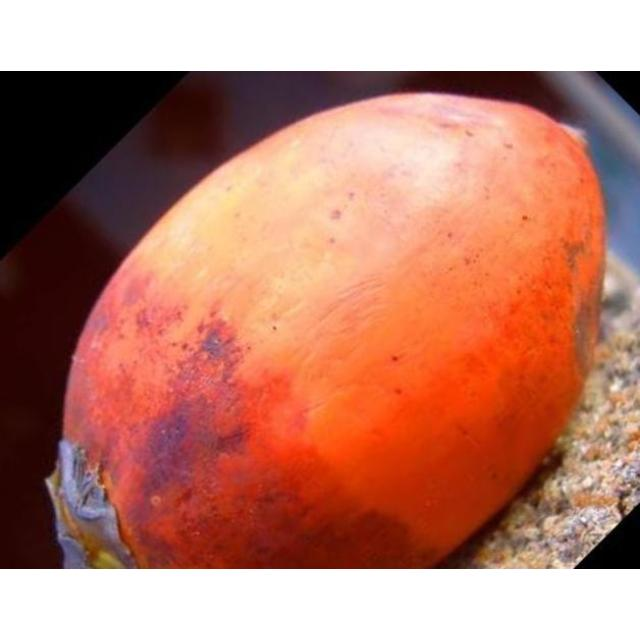good: (45, 92, 608, 568)
